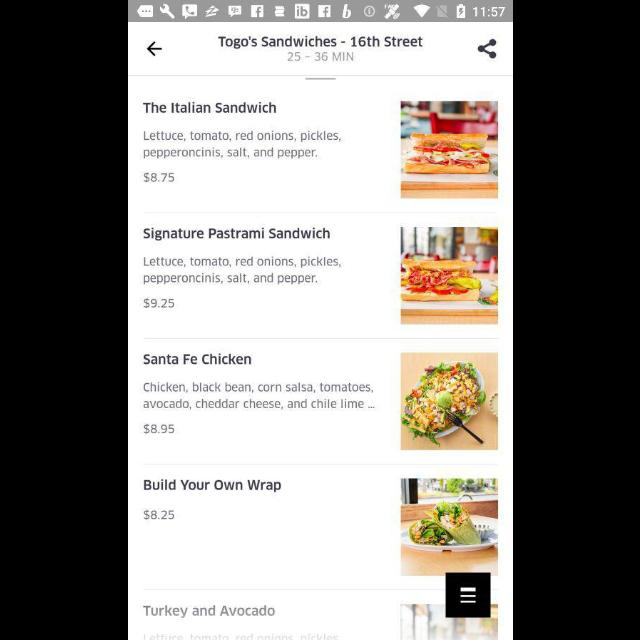icon: (445, 572, 491, 618), (478, 40, 497, 60), (146, 43, 162, 57)
image: (400, 478, 498, 576), (400, 352, 498, 450), (400, 102, 498, 198), (399, 228, 496, 324), (400, 604, 498, 640)
text: (143, 382, 374, 410), (142, 256, 340, 286), (144, 130, 340, 160), (218, 36, 422, 50), (143, 228, 329, 242), (143, 479, 281, 493), (143, 604, 274, 618), (142, 102, 276, 114), (143, 353, 251, 365), (287, 52, 353, 62), (142, 172, 174, 184), (142, 510, 174, 520), (142, 424, 174, 434), (142, 298, 174, 308)
toolbar: (128, 23, 512, 75)
uppertaskbar: (128, 1, 512, 23)
